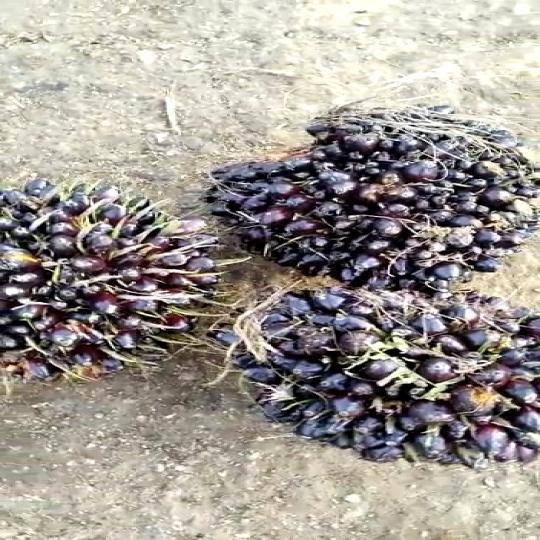mentah: (213, 266, 540, 478), (209, 81, 540, 289), (0, 154, 228, 387)
